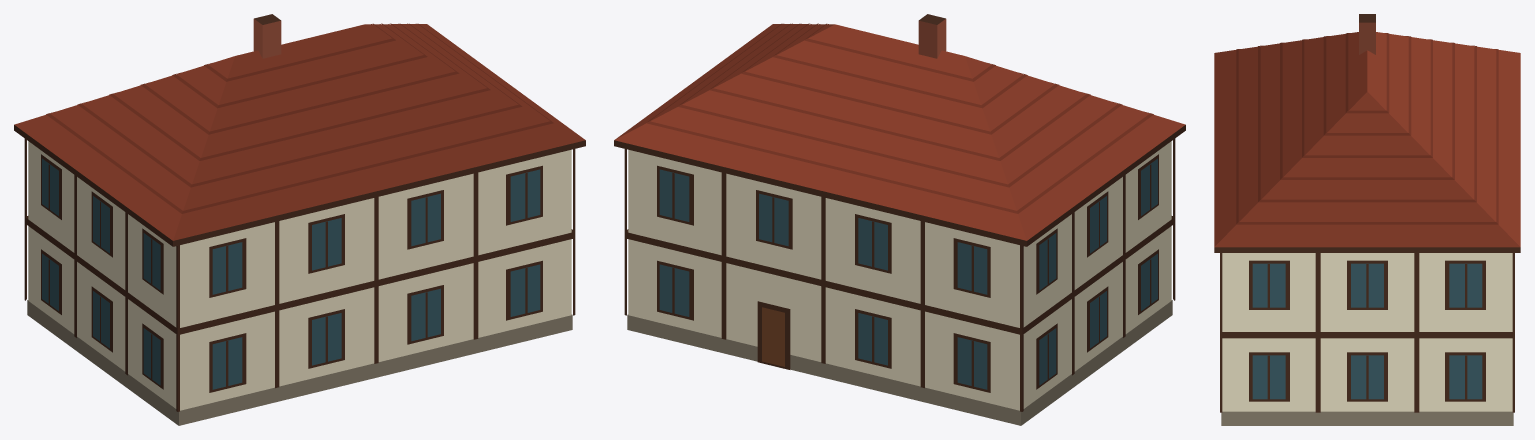
Rendered from house-timber-frame.glb.
The picture shows the model from 3 angles, left to right: view 1: azimuth 30°, elevation 25°; view 2: azimuth 150°, elevation 25°; view 3: azimuth 270°, elevation 25°; orthographic projection. The views are drawn at different scales.
Parts seen in each view (by area): view 1: House Timber frame; view 2: House Timber frame; view 3: House Timber frame.
Part boxes in pixels (bbox=[...]): House Timber frame: bbox=[14, 14, 585, 425]; House Timber frame: bbox=[614, 14, 1185, 425]; House Timber frame: bbox=[1214, 14, 1520, 425].
Size of the model in its own units: 15.92 by 11.45 by 10.61.
